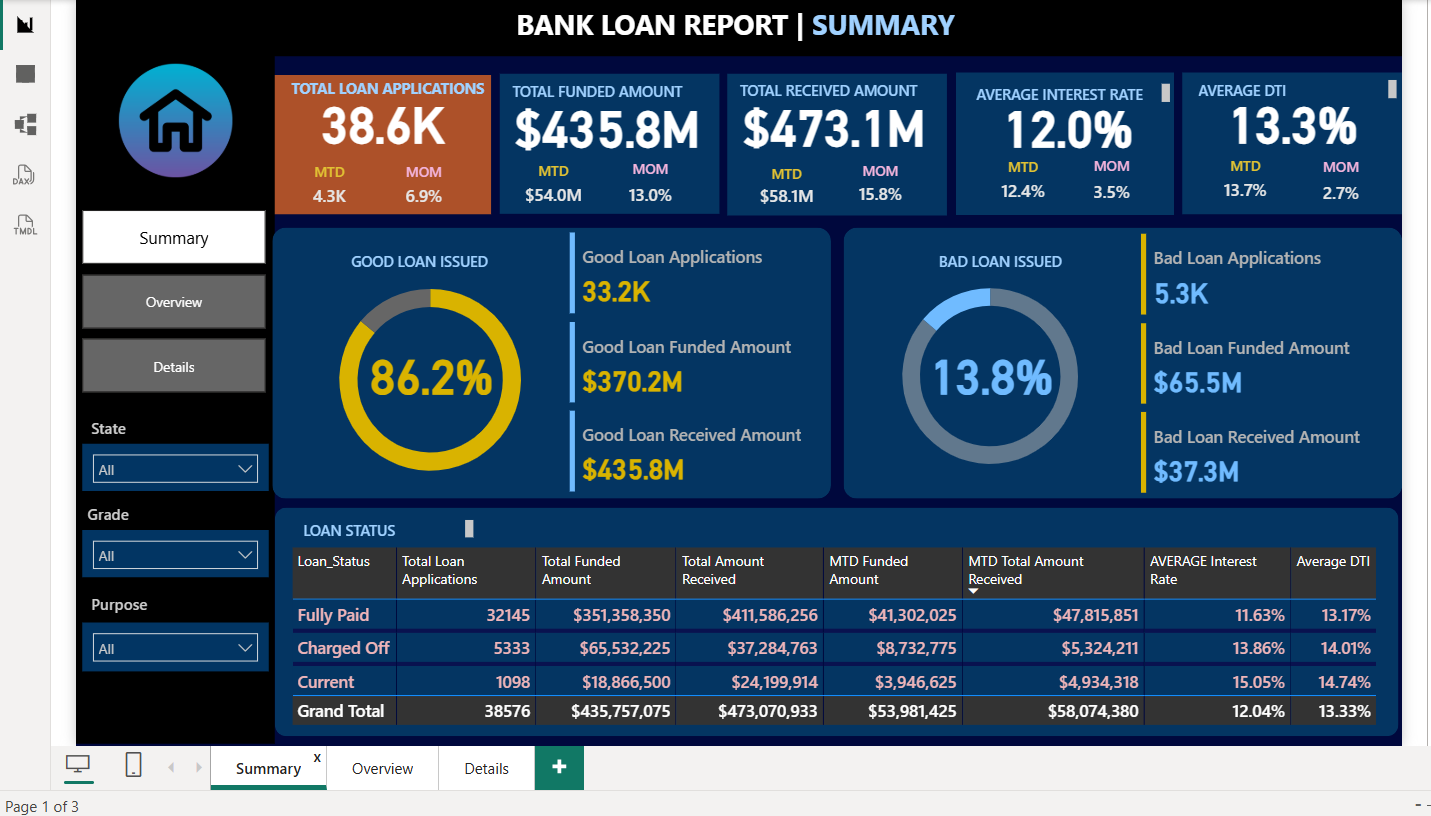

Layout of this report page (visuals, bound fields, positions):
{"tool":"powerbi","page":{"name":"Summary","canvas":[1280,720],"ordinal":0},"visuals":[{"type":"shape","box":[849.3,70,210.8,137.5],"z":0,"group":"g4"},{"type":"shape","box":[1067.7,70,212,137],"z":0,"group":"g5"},{"type":"group","id":"g1","title":"Group 1","box":[408.7,71.2,212.7,137.3],"z":0},{"type":"shape","box":[408.7,71.2,212.2,135.3],"z":0,"group":"g1"},{"type":"shape","box":[628.8,71.2,212,137],"z":0,"group":"g3"},{"type":"shape","box":[189.4,71.9,211.3,134.6],"z":0,"group":"g2"},{"type":"group","id":"g2","title":"Group 1","box":[189.4,71.2,212,137],"z":1000},{"type":"card","fields":{"Values":["bank_loan_data.Average DTI"]},"box":[1079.3,85,189.3,62.9],"z":1000,"group":"g5"},{"type":"card","fields":{"Values":["bank_loan_data.Total Loan Applications"]},"box":[202.2,85.8,187.3,59.8],"z":1000,"group":"g2"},{"type":"card","fields":{"Values":["bank_loan_data.Total Amount Received"]},"box":[635.4,87.7,192.2,60.3],"z":1000,"group":"g3"},{"type":"card","fields":{"Values":["bank_loan_data.AVERAGE Interest Rate"]},"box":[864.6,88.1,184.9,62.9],"z":1000,"group":"g4"},{"type":"card","fields":{"Values":["bank_loan_data.Total Funded Amount"]},"box":[416,88.5,193.2,62.9],"z":1000,"group":"g1"},{"type":"shape","box":[0,0,1280,54.3],"z":2000},{"type":"textbox","box":[202.2,71.2,199.2,29.2],"z":2000,"group":"g2"},{"type":"textbox","box":[635.4,73,204.4,29.5],"z":2000,"group":"g3"},{"type":"textbox","box":[1078.9,73,201.3,28],"z":2000,"group":"g5"},{"type":"textbox","box":[416,73.2,205.4,30.7],"z":2000,"group":"g1"},{"type":"textbox","box":[864.2,76.1,196.6,27.9],"z":2000,"group":"g4"},{"type":"shape","box":[0,48.3,191.8,669.6],"z":3000},{"type":"card","title":"MTD","fields":{"Values":["bank_loan_data.MTD Avg DTI"]},"box":[1096.4,150.9,64,51.7],"z":3000,"group":"g5"},{"type":"card","title":"MTD","fields":{"Values":["bank_loan_data.MTD Avg Int Rate"]},"box":[882.7,151.7,62,51.9],"z":3000,"group":"g4"},{"type":"card","title":"MTD","fields":{"Values":["bank_loan_data.MTD Funded Amount"]},"box":[427.8,155.4,65.1,51.9],"z":3000,"group":"g1"},{"type":"card","title":"MTD","fields":{"Values":["bank_loan_data.MTD Loan Applications"]},"box":[216.2,156.7,57.4,50.2],"z":3000,"group":"g2"},{"type":"card","title":"MTD","fields":{"Values":["bank_loan_data.MTD Total Amount Received"]},"box":[653.6,158.1,64.2,49.4],"z":3000,"group":"g3"},{"type":"textbox","box":[419.9,0,440.5,49.4],"z":4000},{"type":"card","title":"MOM","fields":{"Values":["bank_loan_data.MOM Avg Interest rate"]},"box":[974,151,52.1,54.5],"z":4000,"group":"g4"},{"type":"card","title":"MOM","fields":{"Values":["bank_loan_data.MOM Avg DTI"]},"box":[1194.7,152,53.1,54.7],"z":4000,"group":"g5"},{"type":"card","title":"MOM","fields":{"Values":["bank_loan_data.MOM Total Funded Amount"]},"box":[526.7,153,54.3,55.5],"z":4000,"group":"g1"},{"type":"card","title":"MOM","fields":{"Values":["bank_loan_data.MOM Total Amount Received"]},"box":[748.5,155.4,56.7,49.5],"z":4000,"group":"g3"},{"type":"card","title":"MOM","fields":{"Values":["bank_loan_data.MOM Loan Applications"]},"box":[308.4,156.7,53.8,51.5],"z":4000,"group":"g2"},{"type":"group","id":"g3","title":"Group 1","box":[628.8,71.2,212,137],"z":5000},{"type":"group","id":"g4","title":"Group 1","box":[849.3,70,212.3,137.5],"z":6000},{"type":"group","id":"g5","title":"Group 1","box":[1067.7,70,212.3,137.5],"z":7000},{"type":"shape","box":[189.4,219.6,539.3,261.8],"z":8000},{"type":"textbox","box":[260.6,237.7,167.7,30.2],"z":9000},{"type":"shape","box":[740.8,219.6,539.3,261.8],"z":10000},{"type":"donutChart","fields":{"Category":["bank_loan_data.Good vs Bad Loan"],"Y":["bank_loan_data.Total Loan Applications"]},"box":[216,252.1,252.1,229.2],"z":11000},{"type":"card","fields":{"Values":["bank_loan_data.Good Loan %"]},"box":[264.2,328.2,158,62.7],"z":12000},{"type":"cardVisual","fields":{"Data":["bank_loan_data.Good Loan Applications","bank_loan_data.Good Loan Funded Amount","bank_loan_data.Good Loan Received Amount"]},"box":[471.7,219.6,257,261.8],"z":13000},{"type":"donutChart","fields":{"Category":["bank_loan_data.Good vs Bad Loan"],"Y":["bank_loan_data.Total Loan Applications"]},"box":[756.4,252.1,252.1,222],"z":14000},{"type":"textbox","box":[827.6,237.7,167.7,30.2],"z":15000},{"type":"card","fields":{"Values":["bank_loan_data.Bad Loan %"]},"box":[804.7,328.2,158,62.7],"z":16000},{"type":"cardVisual","fields":{"Data":["bank_loan_data.Bad Loan Applications","bank_loan_data.Bad Loan Funded Amount","bank_loan_data.Bad Loan Received Amount"]},"box":[1023.1,220.8,257,261.8],"z":17000},{"type":"shape","box":[191.8,489.8,1084.6,220.8],"z":18000},{"type":"tableEx","fields":{"Values":["bank_loan_data.loan_status","bank_loan_data.Total Loan Applications","bank_loan_data.Total Funded Amount","bank_loan_data.Total Amount Received","bank_loan_data.MTD Funded Amount","bank_loan_data.MTD Total Amount Received","bank_loan_data.AVERAGE Interest Rate","bank_loan_data.Average DTI"]},"box":[202.7,523.6,1065.3,187],"z":19000},{"type":"textbox","box":[214.7,497.1,173.7,26.5],"z":20000},{"type":"slicer","fields":{"Values":["bank_loan_data.address_state"]},"box":[6,428.3,179.8,45.8],"z":21000},{"type":"textbox","box":[9.7,398.1,74.8,30.2],"z":22000},{"type":"slicer","fields":{"Values":["bank_loan_data.grade"]},"box":[6,511.5,179.8,45.8],"z":23000},{"type":"textbox","box":[6,481.4,74.8,30.2],"z":24000},{"type":"slicer","fields":{"Values":["bank_loan_data.purpose"]},"box":[6,600.8,179.8,47.1],"z":25000},{"type":"textbox","box":[9.7,568.2,90.5,32.6],"z":26000},{"type":"image","box":[30.2,56.7,132.7,119.4],"z":26001},{"type":"pageNavigator","box":[6,202.7,177.3,178.6],"z":26002}]}

Visuals, with their boxes on the page's 1280x720 design canvas (x1, y1, x2, y2). These are canvas units, not pixel positions in the 1431x816 screenshot, which may show the page scaled, cropped or inside an application window:
shape: x1=849 y1=70 x2=1060 y2=208
shape: x1=1068 y1=70 x2=1280 y2=207
"Group 1" group: x1=409 y1=71 x2=621 y2=208
shape: x1=409 y1=71 x2=621 y2=206
shape: x1=629 y1=71 x2=841 y2=208
shape: x1=189 y1=72 x2=401 y2=206
"Group 1" group: x1=189 y1=71 x2=401 y2=208
card - bank_loan_data.Average DTI: x1=1079 y1=85 x2=1269 y2=148
card - bank_loan_data.Total Loan Applications: x1=202 y1=86 x2=390 y2=146
card - bank_loan_data.Total Amount Received: x1=635 y1=88 x2=828 y2=148
card - bank_loan_data.AVERAGE Interest Rate: x1=865 y1=88 x2=1050 y2=151
card - bank_loan_data.Total Funded Amount: x1=416 y1=88 x2=609 y2=151
shape: x1=0 y1=0 x2=1280 y2=54
textbox: x1=202 y1=71 x2=401 y2=100
textbox: x1=635 y1=73 x2=840 y2=102
textbox: x1=1079 y1=73 x2=1280 y2=101
textbox: x1=416 y1=73 x2=621 y2=104
textbox: x1=864 y1=76 x2=1061 y2=104
shape: x1=0 y1=48 x2=192 y2=718
"MTD" card: x1=1096 y1=151 x2=1160 y2=203
"MTD" card: x1=883 y1=152 x2=945 y2=204
"MTD" card: x1=428 y1=155 x2=493 y2=207
"MTD" card: x1=216 y1=157 x2=274 y2=207
"MTD" card: x1=654 y1=158 x2=718 y2=208
textbox: x1=420 y1=0 x2=860 y2=49
"MOM" card: x1=974 y1=151 x2=1026 y2=206
"MOM" card: x1=1195 y1=152 x2=1248 y2=207
"MOM" card: x1=527 y1=153 x2=581 y2=208
"MOM" card: x1=748 y1=155 x2=805 y2=205
"MOM" card: x1=308 y1=157 x2=362 y2=208
"Group 1" group: x1=629 y1=71 x2=841 y2=208
"Group 1" group: x1=849 y1=70 x2=1062 y2=208
"Group 1" group: x1=1068 y1=70 x2=1280 y2=208
shape: x1=189 y1=220 x2=729 y2=481
textbox: x1=261 y1=238 x2=428 y2=268
shape: x1=741 y1=220 x2=1280 y2=481
donutChart - bank_loan_data.Good vs Bad Loan x bank_loan_data.Total Loan Applications: x1=216 y1=252 x2=468 y2=481
card - bank_loan_data.Good Loan %: x1=264 y1=328 x2=422 y2=391
cardVisual - bank_loan_data.Good Loan Applications x bank_loan_data.Good Loan Funded Amount: x1=472 y1=220 x2=729 y2=481
donutChart - bank_loan_data.Good vs Bad Loan x bank_loan_data.Total Loan Applications: x1=756 y1=252 x2=1008 y2=474
textbox: x1=828 y1=238 x2=995 y2=268
card - bank_loan_data.Bad Loan %: x1=805 y1=328 x2=963 y2=391
cardVisual - bank_loan_data.Bad Loan Applications x bank_loan_data.Bad Loan Funded Amount: x1=1023 y1=221 x2=1280 y2=483
shape: x1=192 y1=490 x2=1276 y2=711
tableEx - bank_loan_data.loan_status x bank_loan_data.Total Loan Applications: x1=203 y1=524 x2=1268 y2=711
textbox: x1=215 y1=497 x2=388 y2=524
slicer - bank_loan_data.address_state: x1=6 y1=428 x2=186 y2=474
textbox: x1=10 y1=398 x2=84 y2=428
slicer - bank_loan_data.grade: x1=6 y1=512 x2=186 y2=557
textbox: x1=6 y1=481 x2=81 y2=512
slicer - bank_loan_data.purpose: x1=6 y1=601 x2=186 y2=648
textbox: x1=10 y1=568 x2=100 y2=601
image: x1=30 y1=57 x2=163 y2=176
pageNavigator: x1=6 y1=203 x2=183 y2=381
